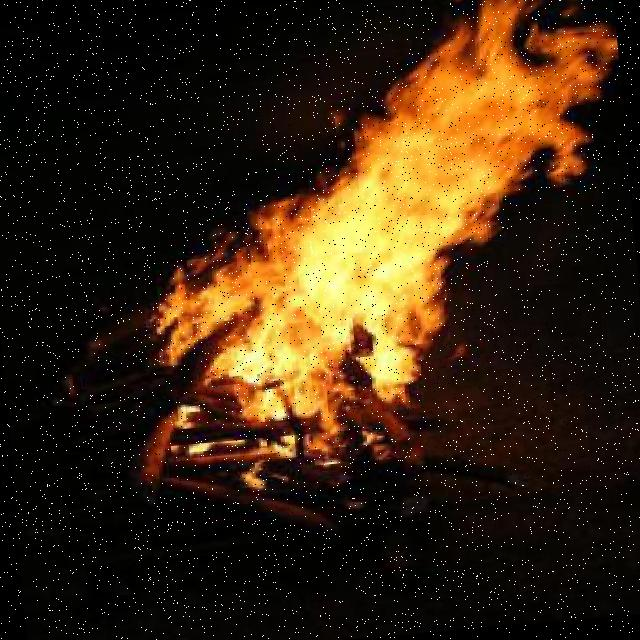fire: (82, 0, 640, 512)
